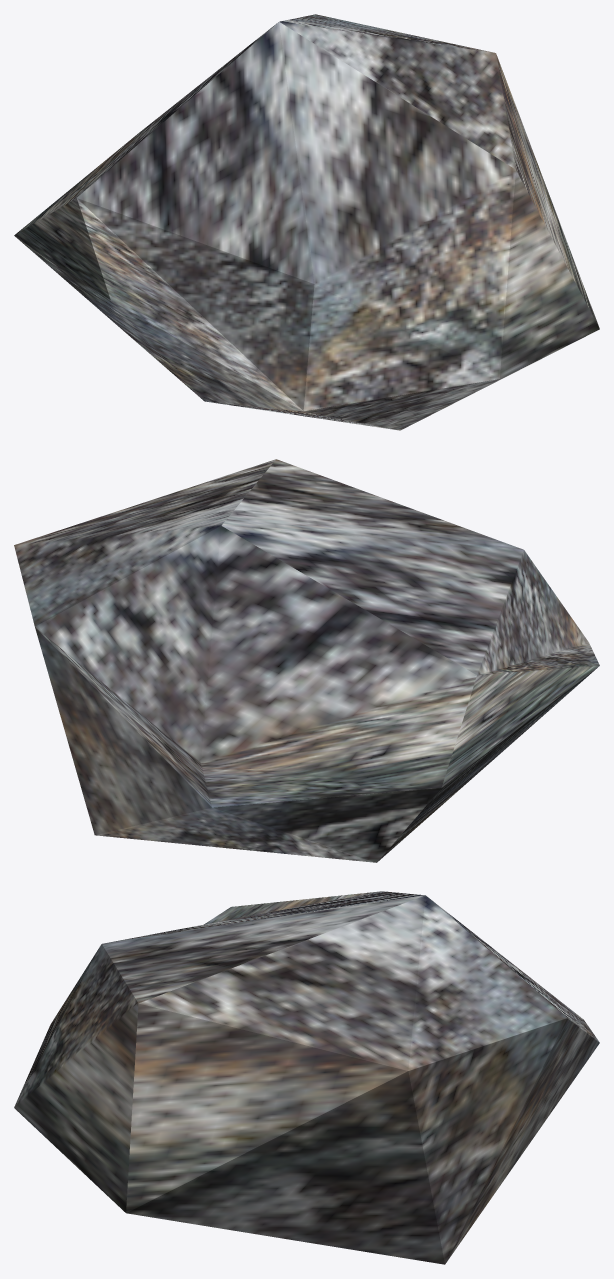
The model's file is items__rock.glb.
3 views of the same model, one above another, from view 1: azimuth 30°, elevation 25°; view 2: azimuth 150°, elevation 25°; view 3: azimuth 270°, elevation 25° (orthographic). The views are drawn at different scales.
Visible parts, largest first — view 1: boulder32; view 2: boulder32; view 3: boulder32.
Part boxes in pixels (box(x1,y1,x2,y2)): boulder32: box(14, 14, 599, 430); boulder32: box(14, 459, 599, 862); boulder32: box(14, 891, 599, 1264).
Size of the model in its own units: 19.73 by 13.03 by 21.3.
Materials: 1 (1 with a texture image).
